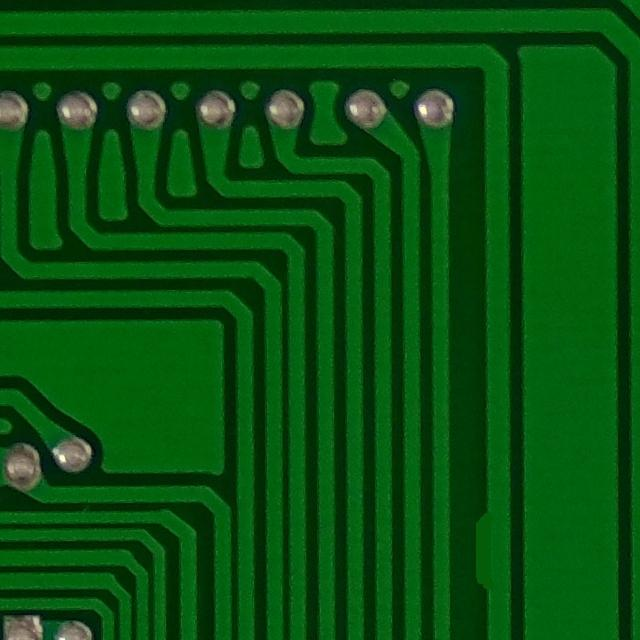spur: (467, 497, 511, 602)
